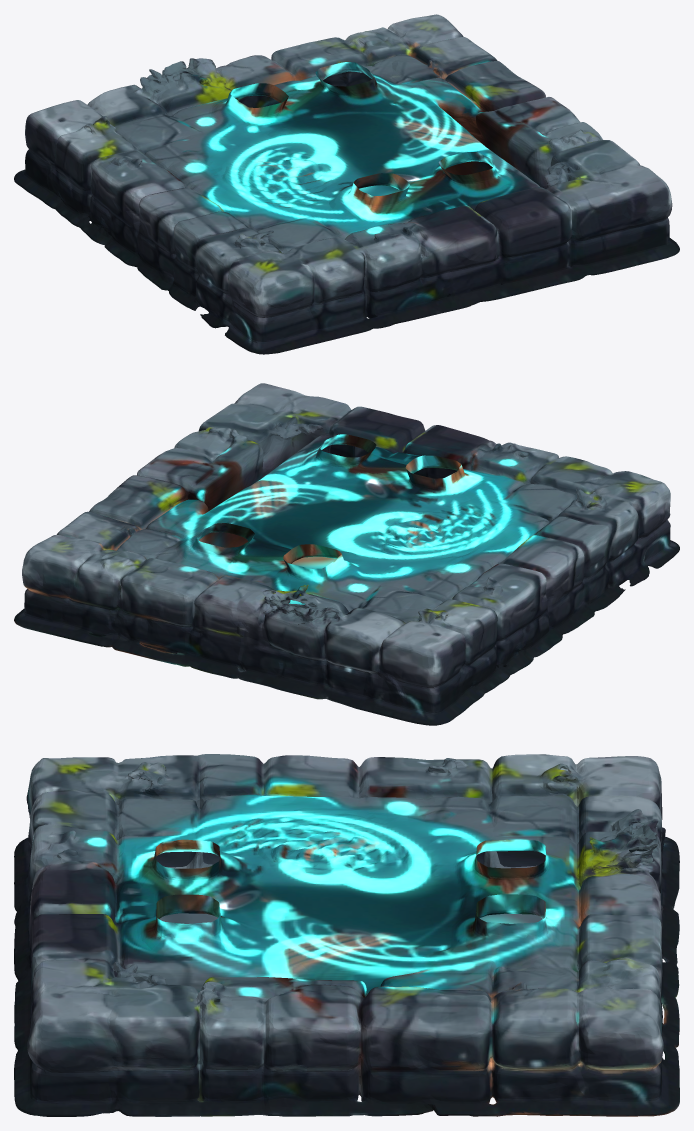
Rendered from water_plate.glb.
The picture shows the model from 3 angles, top to bottom: view 1: azimuth 30°, elevation 25°; view 2: azimuth 150°, elevation 25°; view 3: azimuth 270°, elevation 25°; orthographic projection. The views are drawn at different scales.
Parts seen in each view (by area): view 1: water_plate; view 2: water_plate; view 3: water_plate.
Part boxes in pixels (<box>): water_plate: <box>14,14,679,354</box>; water_plate: <box>14,383,679,725</box>; water_plate: <box>14,754,679,1116</box>.
Bounding box in the file's own units: 2 × 0.3835 × 2.
Materials: 1 (1 with a texture image).
